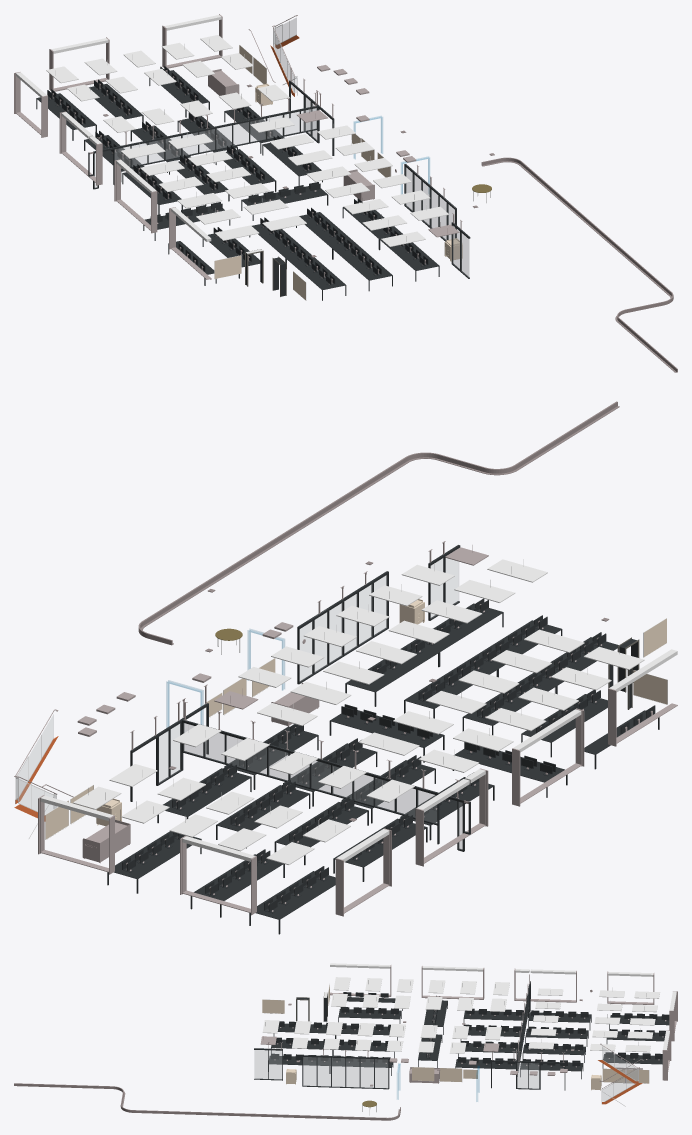
3 views of the same model, one above another, from view 1: azimuth 30°, elevation 25°; view 2: azimuth 150°, elevation 25°; view 3: azimuth 270°, elevation 25° (orthographic). The views are drawn at different scales.
Visible parts, largest first — view 1: 1, 3, 2, 0, 7, 5; view 2: 1, 3, 2, 0, 7, 5; view 3: 1, 3, 0, 2, 5, 7, 4.
Part boxes in pixels (x1,y1,x2,y2): 1: (36, 66, 470, 300); 3: (16, 15, 490, 300); 2: (14, 14, 462, 284); 0: (95, 17, 469, 277); 7: (103, 84, 677, 372); 5: (214, 45, 462, 300); 1: (107, 545, 659, 934); 3: (15, 559, 677, 864); 2: (14, 541, 677, 916); 0: (16, 558, 462, 849); 7: (138, 401, 619, 821); 5: (45, 599, 667, 839); 1: (254, 981, 669, 1090); 3: (262, 963, 676, 1114); 0: (254, 1047, 638, 1101); 2: (260, 965, 677, 1088); 5: (262, 985, 648, 1090); 7: (14, 999, 582, 1120); 4: (598, 1060, 642, 1104).
Size of the model in its own units: 24.4 by 5.48 by 53.51.
